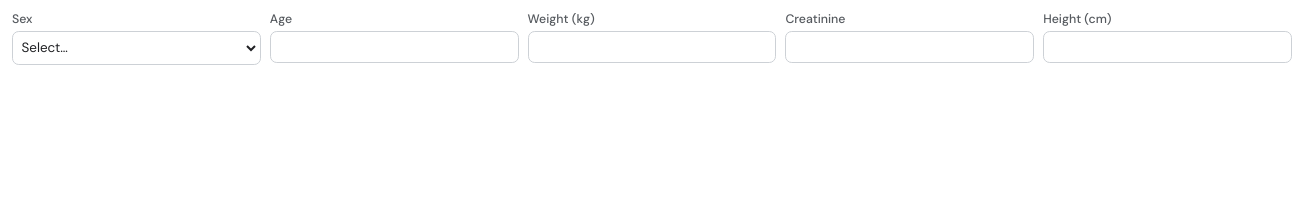
Test: CalcRenderer — choices start unselected › Cockcroft-Gault offers sex and computes once it is chosen
This screenshot has width=1304, height=207.
Type "40" into the number field below "Age". click: (394, 47)
box: [270, 31, 519, 63]
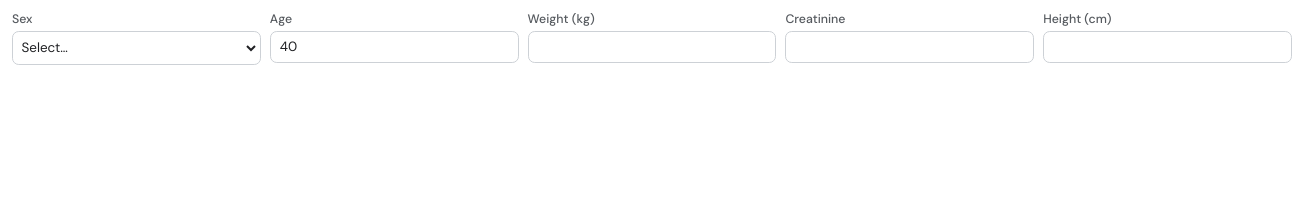
Type "72" into the number field below "Weight (kg)". click: (652, 47)
box: [528, 31, 776, 63]
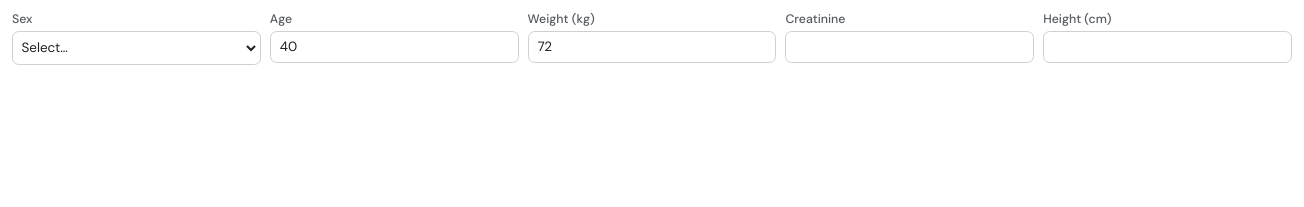
Type "1" into the number field below "Creatinine". click: (910, 47)
box: [785, 31, 1034, 63]
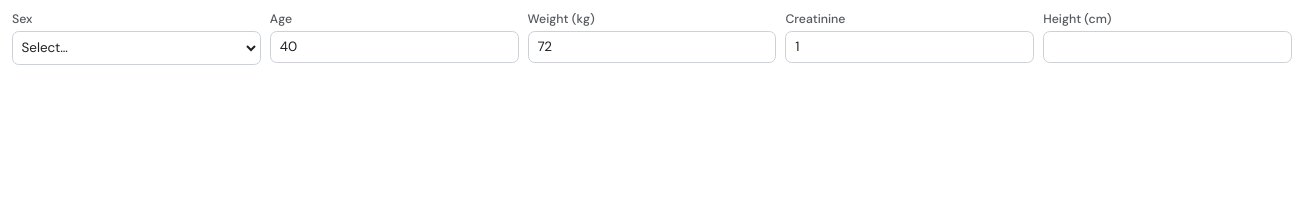
Expected: the text "Add result" is not shown
Select "Female" in the dropdown. click: (136, 48)
box: [12, 31, 261, 65]
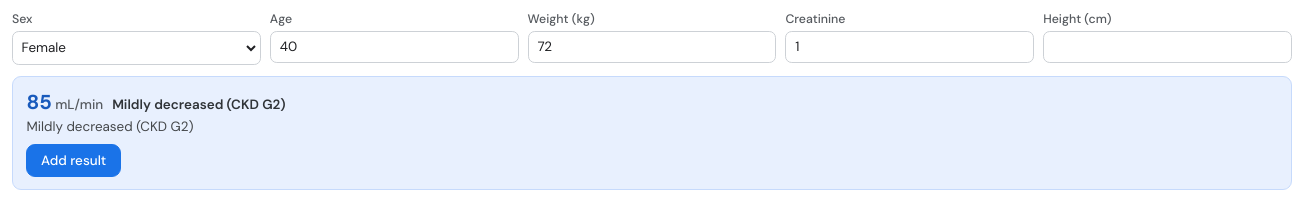
Expected: the button "Add result" is shown, [26, 144, 121, 178]
Expected: the text "85" is shown, [26, 89, 52, 115]
